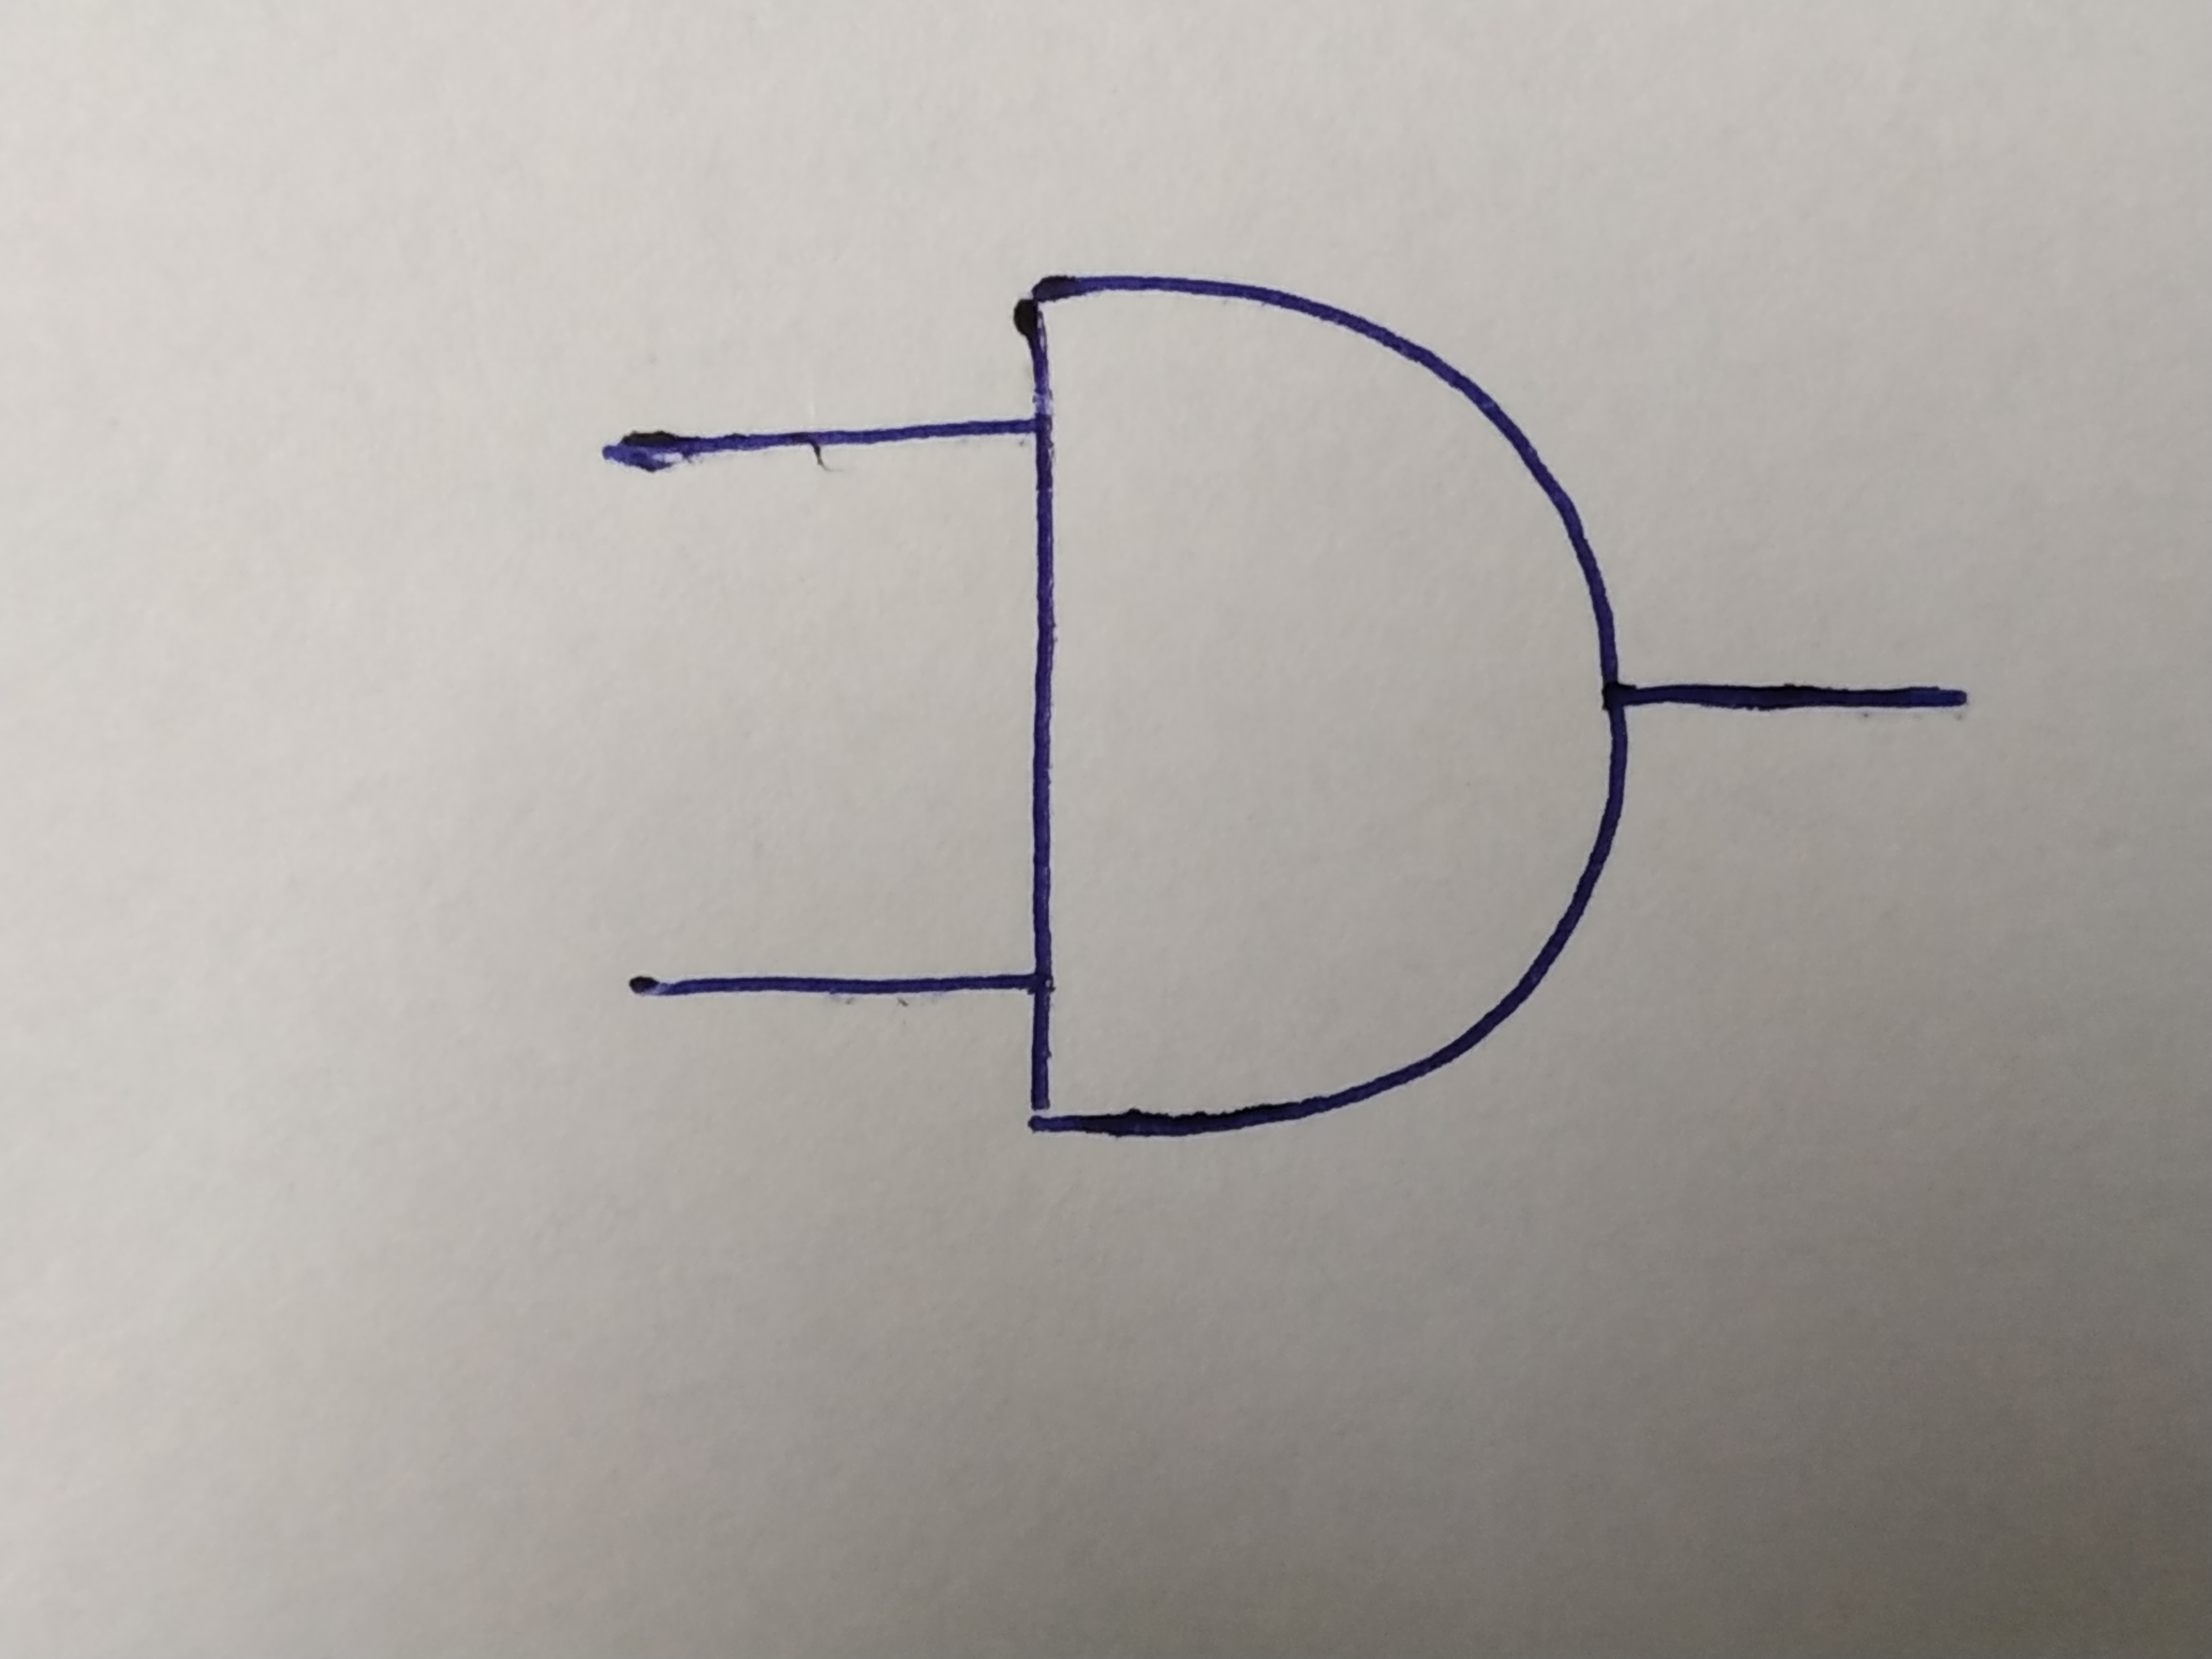and: (1019, 277, 1618, 1124)
